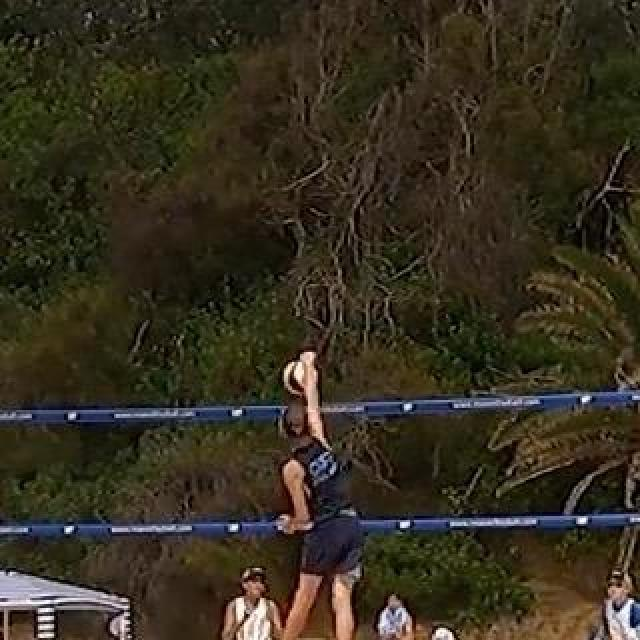volleyball: (281, 360, 321, 396)
